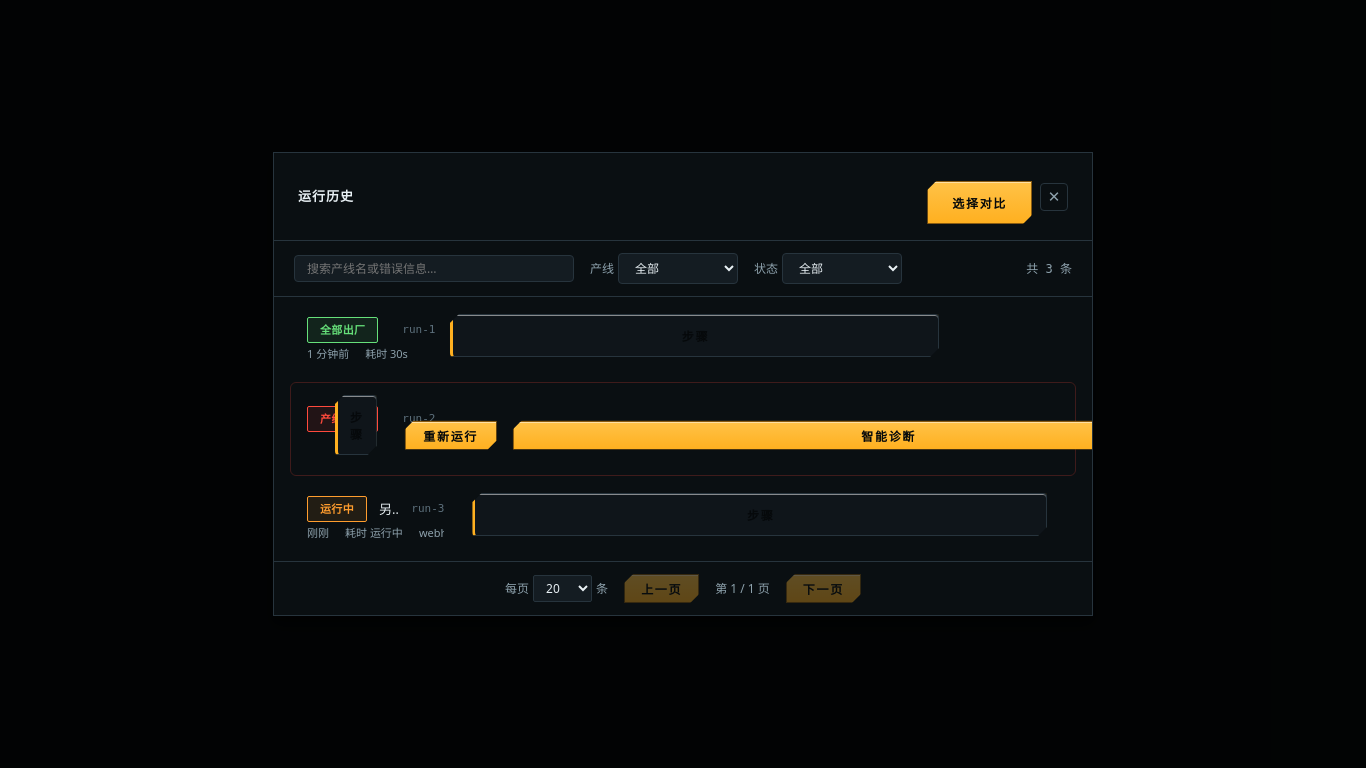
Test case: RunHistory › 选择对比模式 › 对比视图显示对比表格
The image size is (1366, 768).
Expected: the heading "运行历史" is shown, x1=298 y1=187 x2=354 y2=206
Click the button "选择对比".
click(980, 202)  # box x1=927 y1=181 x2=1032 y2=224
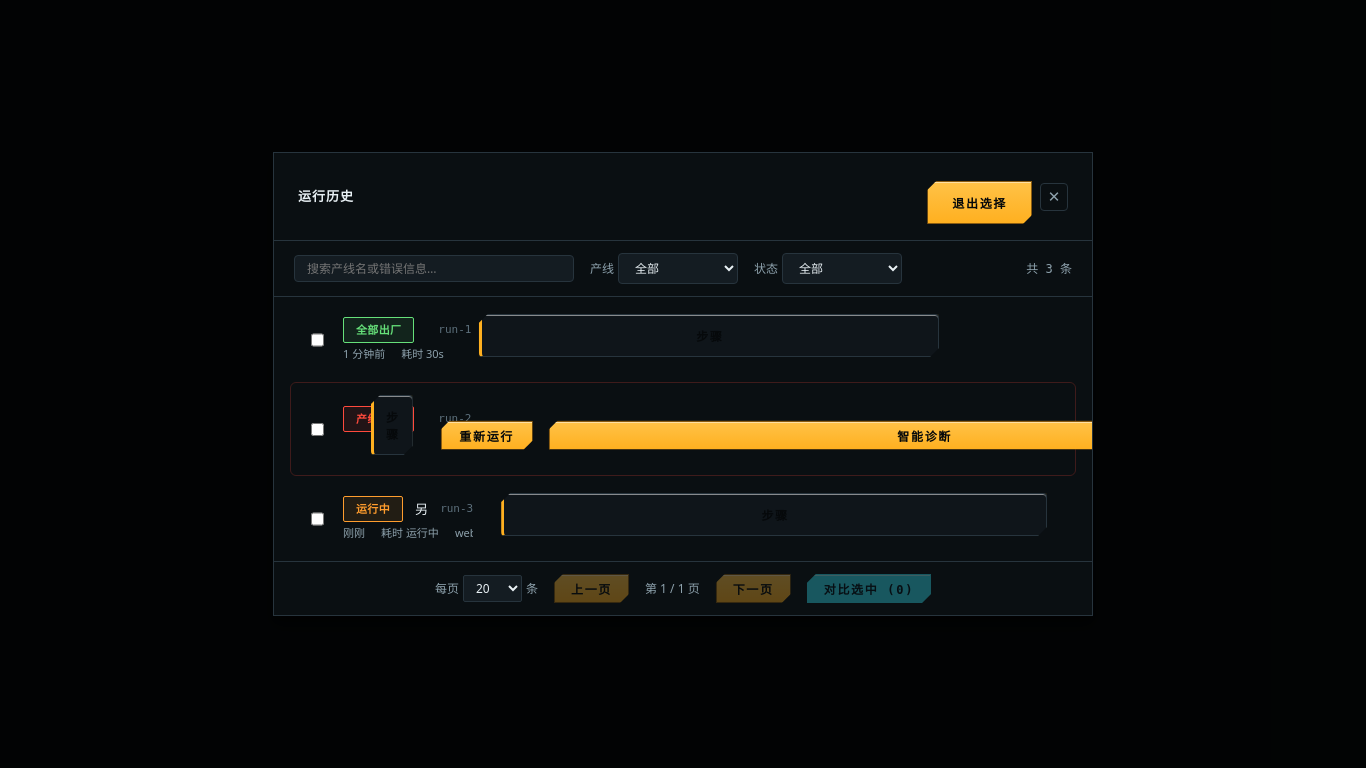
Click the checkbox next to "1 分钟前".
click(318, 340)  # box x1=311 y1=318 x2=324 y2=362
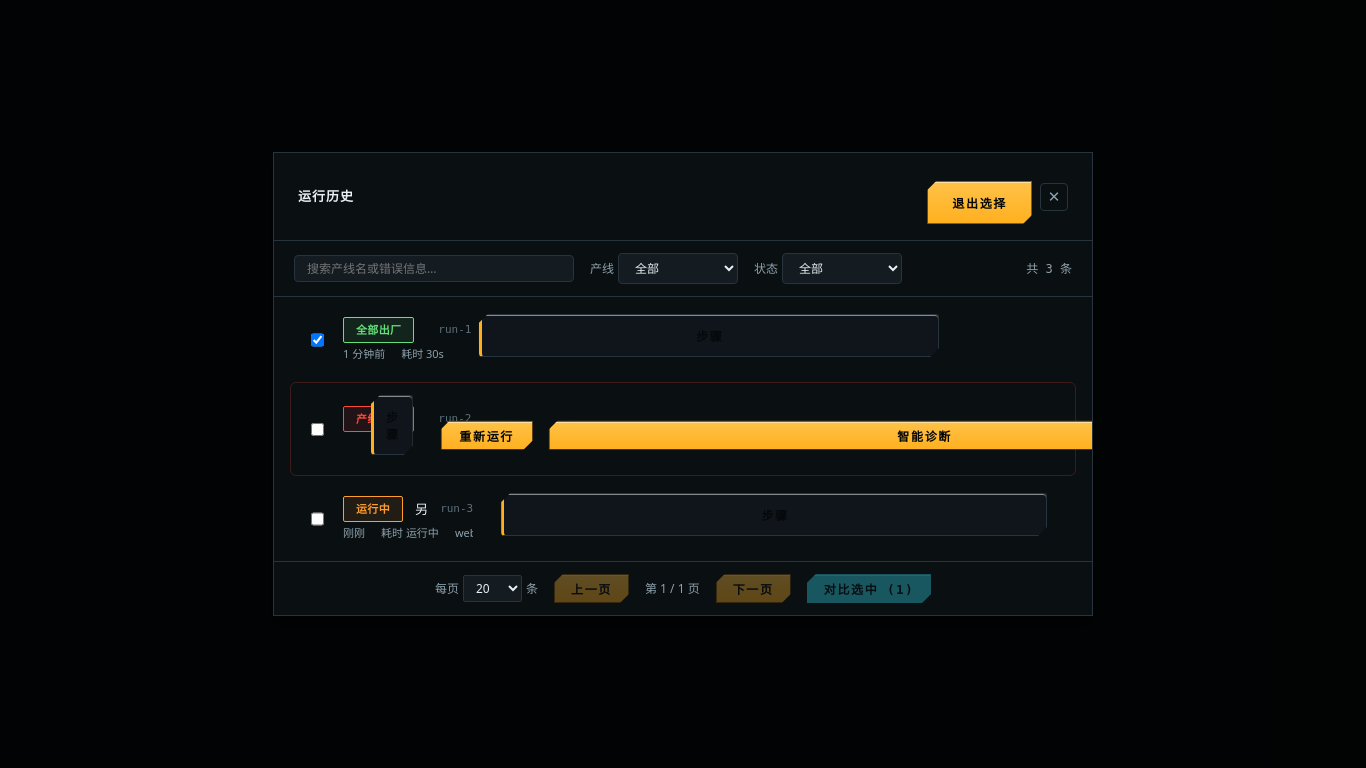
Click the checkbox next to "2 分钟前".
click(318, 430)  # box x1=311 y1=399 x2=324 y2=460
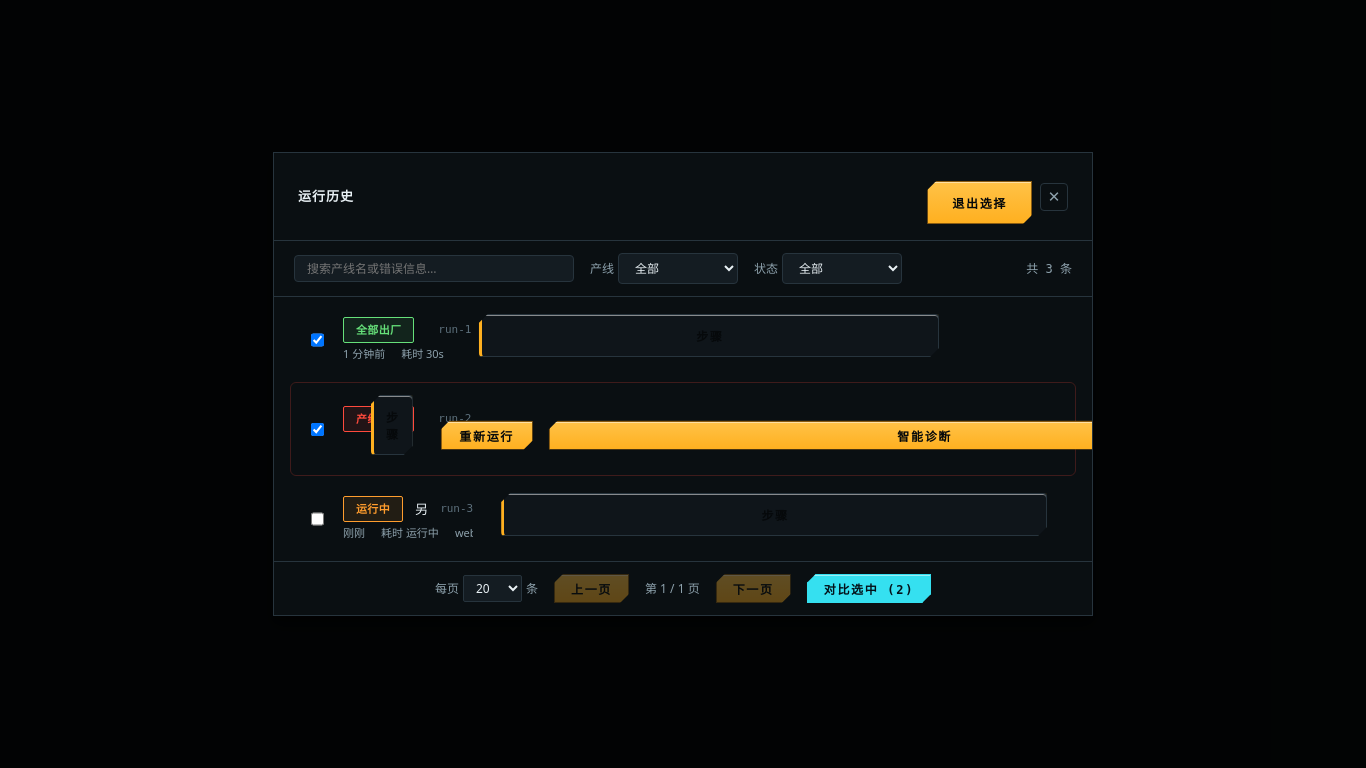
Click the button "对比选中 (2)".
click(869, 588)  # box x1=807 y1=574 x2=931 y2=603
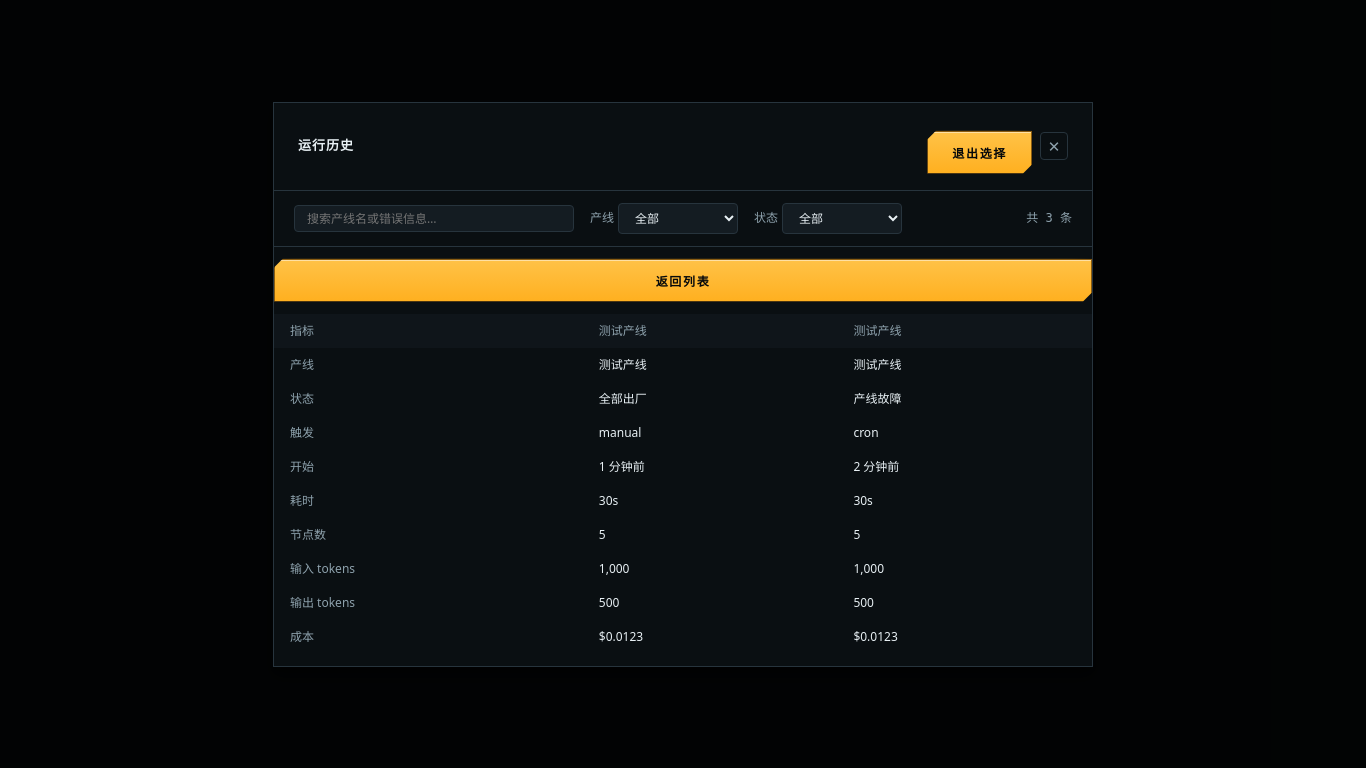
Now the button "返回列表" is shown, box x1=274 y1=258 x2=1092 y2=302
Now the text "节点数" is shown, box x1=274 y1=518 x2=583 y2=552
Now the text "成本" is shown, box x1=274 y1=620 x2=583 y2=654
